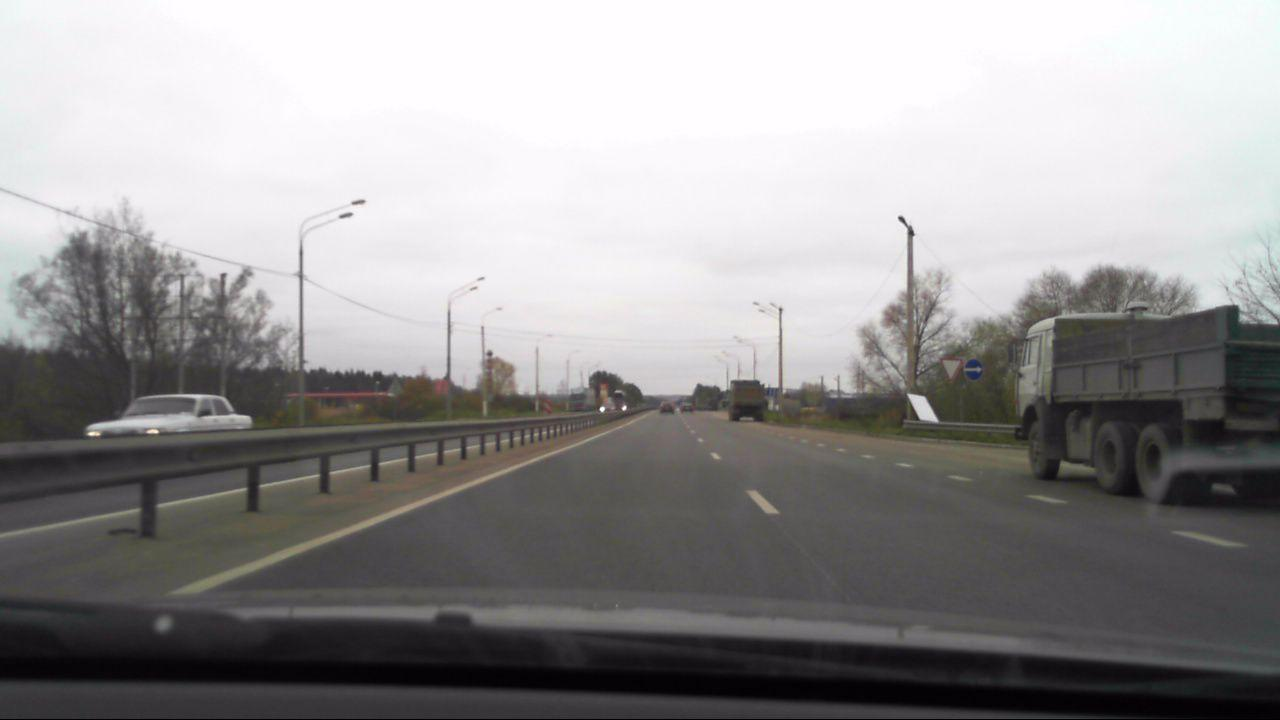2_4: (939, 355, 963, 382)
4_2_1: (963, 359, 987, 384)
